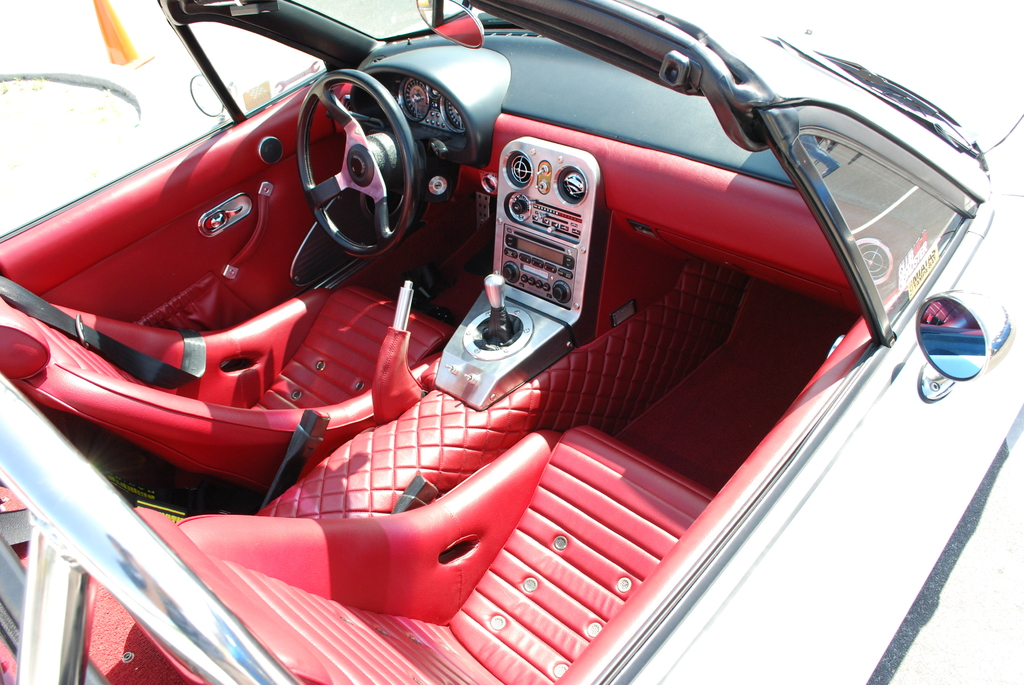Car: (0, 0, 1017, 684)
